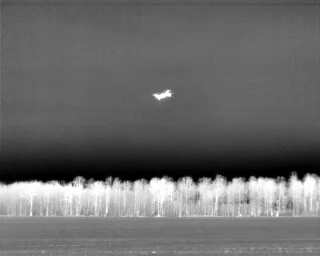DRONE: (148, 84, 176, 105)
